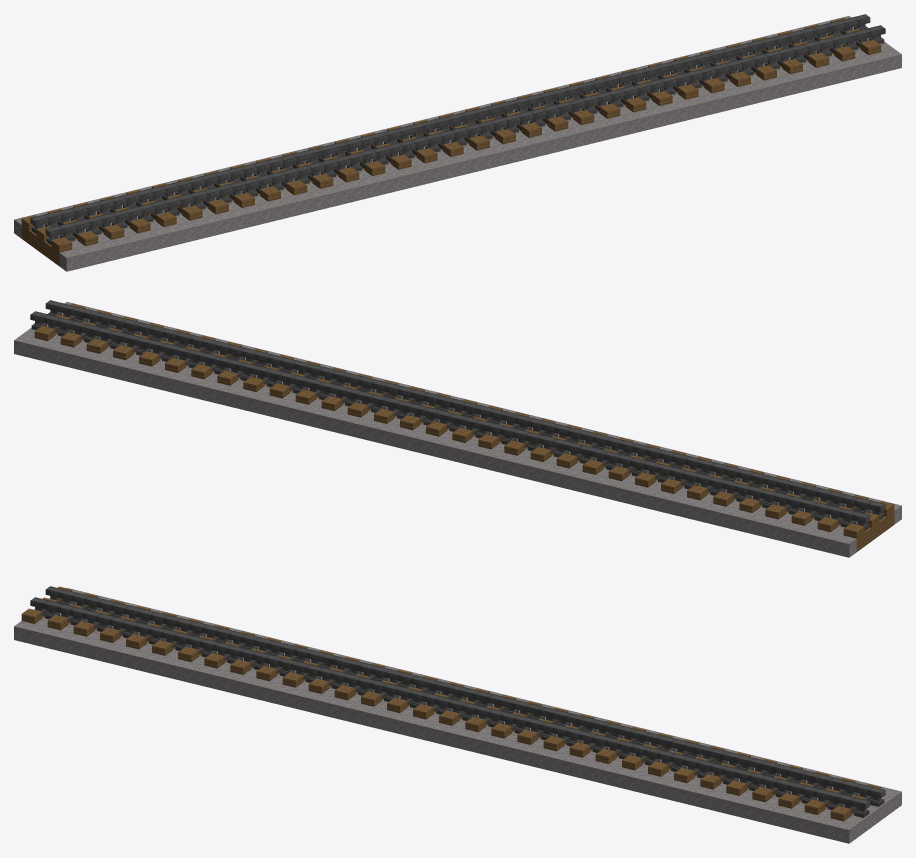
Rendered from RailroadTracks.fbx.
3 views of the same model, one above another, from view 1: azimuth 30°, elevation 25°; view 2: azimuth 150°, elevation 25°; view 3: azimuth 330°, elevation 25° (orthographic).
Parts seen in each view (by area): view 1: node_14, node_10, node_6, node_18, node_9, node_5, node_13, node_11, node_7, node_15, node_17, node_19 (+5 smaller); view 2: node_12, node_16, node_8, node_20, node_11, node_7, node_15, node_9, node_5, node_13, node_19, node_17 (+5 smaller); view 3: node_14, node_10, node_6, node_18, node_5, node_9, node_13, node_15, node_11, node_7, node_17, node_19 (+6 smaller).
Boxes of the visible parts, x1,y1,x2,y2 form: node_14: (229,148,458,226); node_10: (438,97,666,175); node_6: (649,46,875,125); node_18: (44,199,249,271); node_9: (437,82,650,149); node_5: (646,31,859,98); node_13: (228,133,441,200); node_11: (422,71,635,136); node_7: (631,20,844,85); node_15: (213,122,426,187); node_17: (45,184,232,245); node_19: (30,173,217,234); node_12: (249,372,487,461); node_16: (457,423,696,512); node_8: (40,321,278,411); node_20: (666,474,879,557); node_11: (265,368,478,435); node_7: (56,317,269,384); node_15: (474,419,687,486); node_9: (280,357,493,422); node_5: (71,306,284,371); node_13: (489,408,702,473); node_19: (683,470,870,531); node_17: (698,459,885,520); node_14: (196,653,414,735); node_10: (405,704,634,786); node_6: (614,755,831,837); node_18: (14,608,205,684); node_5: (630,743,843,810); node_9: (422,693,634,759); node_13: (213,642,426,708); node_15: (228,631,441,694); node_11: (437,682,649,745); node_7: (646,732,858,796); node_17: (30,597,217,657); node_19: (45,586,232,643).
Size of the model in its own units: 64 by 2 by 7.
Materials: 1 (1 with a texture image).
